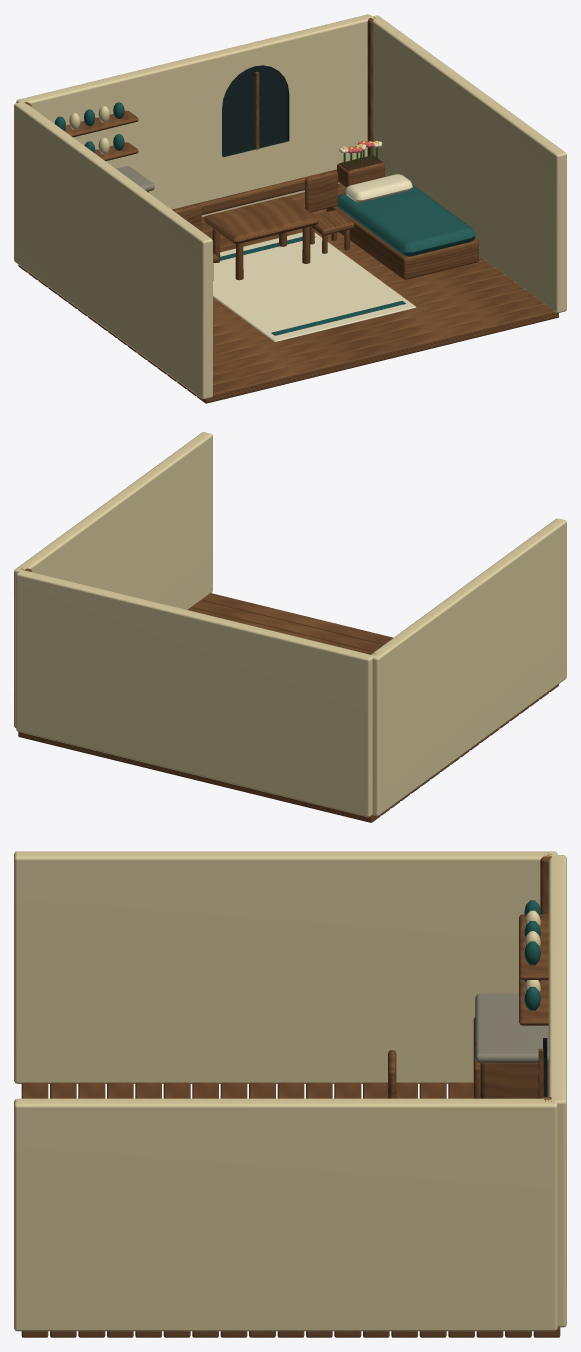
The model's file is cottage_interior.glb.
3 renders of one model, top to bottom at view 1: azimuth 30°, elevation 25°; view 2: azimuth 150°, elevation 25°; view 3: azimuth 270°, elevation 25°, orthographic. The views are drawn at different scales.
Parts seen in each view (by area): view 1: Interior plaster side, Interior back wall, Interior plaster side.001, Woven rug, Interior oak floor, Quilt, Interior window, Interior oak floor.001, Interior oak floor.002, Dining table, Bed frame, Interior oak floor.003 (+12 smaller); view 2: Interior back wall, Interior plaster side, Interior plaster side.001, Interior oak floor.018, Interior oak floor.001, Interior oak floor, Interior oak floor.002; view 3: Interior plaster side.001, Interior plaster side, Interior back wall, Kitchen counter, Kitchen cabinet, Wall shelf.001, Wall shelf, Interior oak floor.005, Interior oak floor.014, Interior oak floor.002, Interior oak floor.007, Interior oak floor.009 (+10 smaller).
Part boxes in pixels (x1=…): Interior plaster side: x1=14, y1=102, x2=212, y2=399; Interior back wall: x1=16, y1=14, x2=371, y2=216; Interior plaster side.001: x1=370, y1=15, x2=566, y2=312; Woven rug: x1=213, y1=232, x2=416, y2=342; Interior oak floor: x1=197, y1=304, x2=558, y2=403; Quilt: x1=337, y1=184, x2=475, y2=256; Interior window: x1=222, y1=65, x2=289, y2=157; Interior oak floor.001: x1=187, y1=297, x2=544, y2=396; Interior oak floor.002: x1=177, y1=290, x2=534, y2=388; Dining table: x1=204, y1=196, x2=318, y2=244; Bed frame: x1=326, y1=206, x2=478, y2=279; Interior oak floor.003: x1=167, y1=282, x2=524, y2=381; Interior back wall: x1=16, y1=570, x2=372, y2=817; Interior plaster side: x1=371, y1=518, x2=566, y2=816; Interior plaster side.001: x1=14, y1=432, x2=212, y2=727; Interior oak floor.018: x1=18, y1=732, x2=380, y2=822; Interior oak floor.001: x1=191, y1=600, x2=549, y2=699; Interior oak floor: x1=201, y1=593, x2=558, y2=691; Interior oak floor.002: x1=188, y1=607, x2=539, y2=706; Interior plaster side.001: x1=14, y1=1098, x2=557, y2=1331; Interior plaster side: x1=14, y1=851, x2=557, y2=1083; Interior back wall: x1=548, y1=855, x2=566, y2=1327; Kitchen counter: x1=475, y1=993, x2=548, y2=1063; Kitchen cabinet: x1=480, y1=1063, x2=548, y2=1098; Wall shelf.001: x1=519, y1=914, x2=548, y2=979; Wall shelf: x1=519, y1=977, x2=548, y2=1025; Interior oak floor.005: x1=163, y1=1082, x2=190, y2=1337; Interior oak floor.014: x1=419, y1=1082, x2=446, y2=1337; Interior oak floor.002: x1=78, y1=1082, x2=105, y2=1337; Interior oak floor.007: x1=220, y1=1082, x2=247, y2=1337; Interior oak floor.009: x1=277, y1=1082, x2=304, y2=1337.
Bounding box in the file's own units: 7.22 × 3.13 × 6.61.
13 materials, 2 textured.
